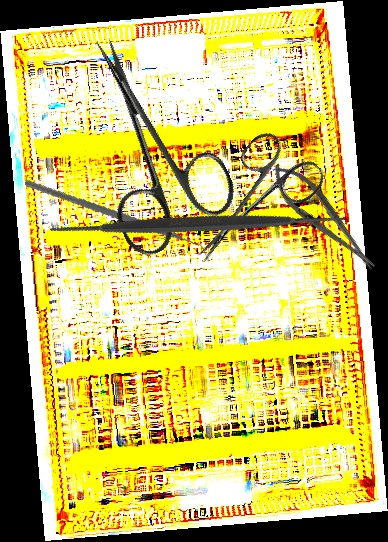Chopper: (24, 146, 210, 297)
Iris Scissors: (44, 14, 247, 263), (171, 122, 330, 288)
Needle Holder: (261, 154, 386, 281)
Spatula Surgical: (38, 65, 358, 384)
